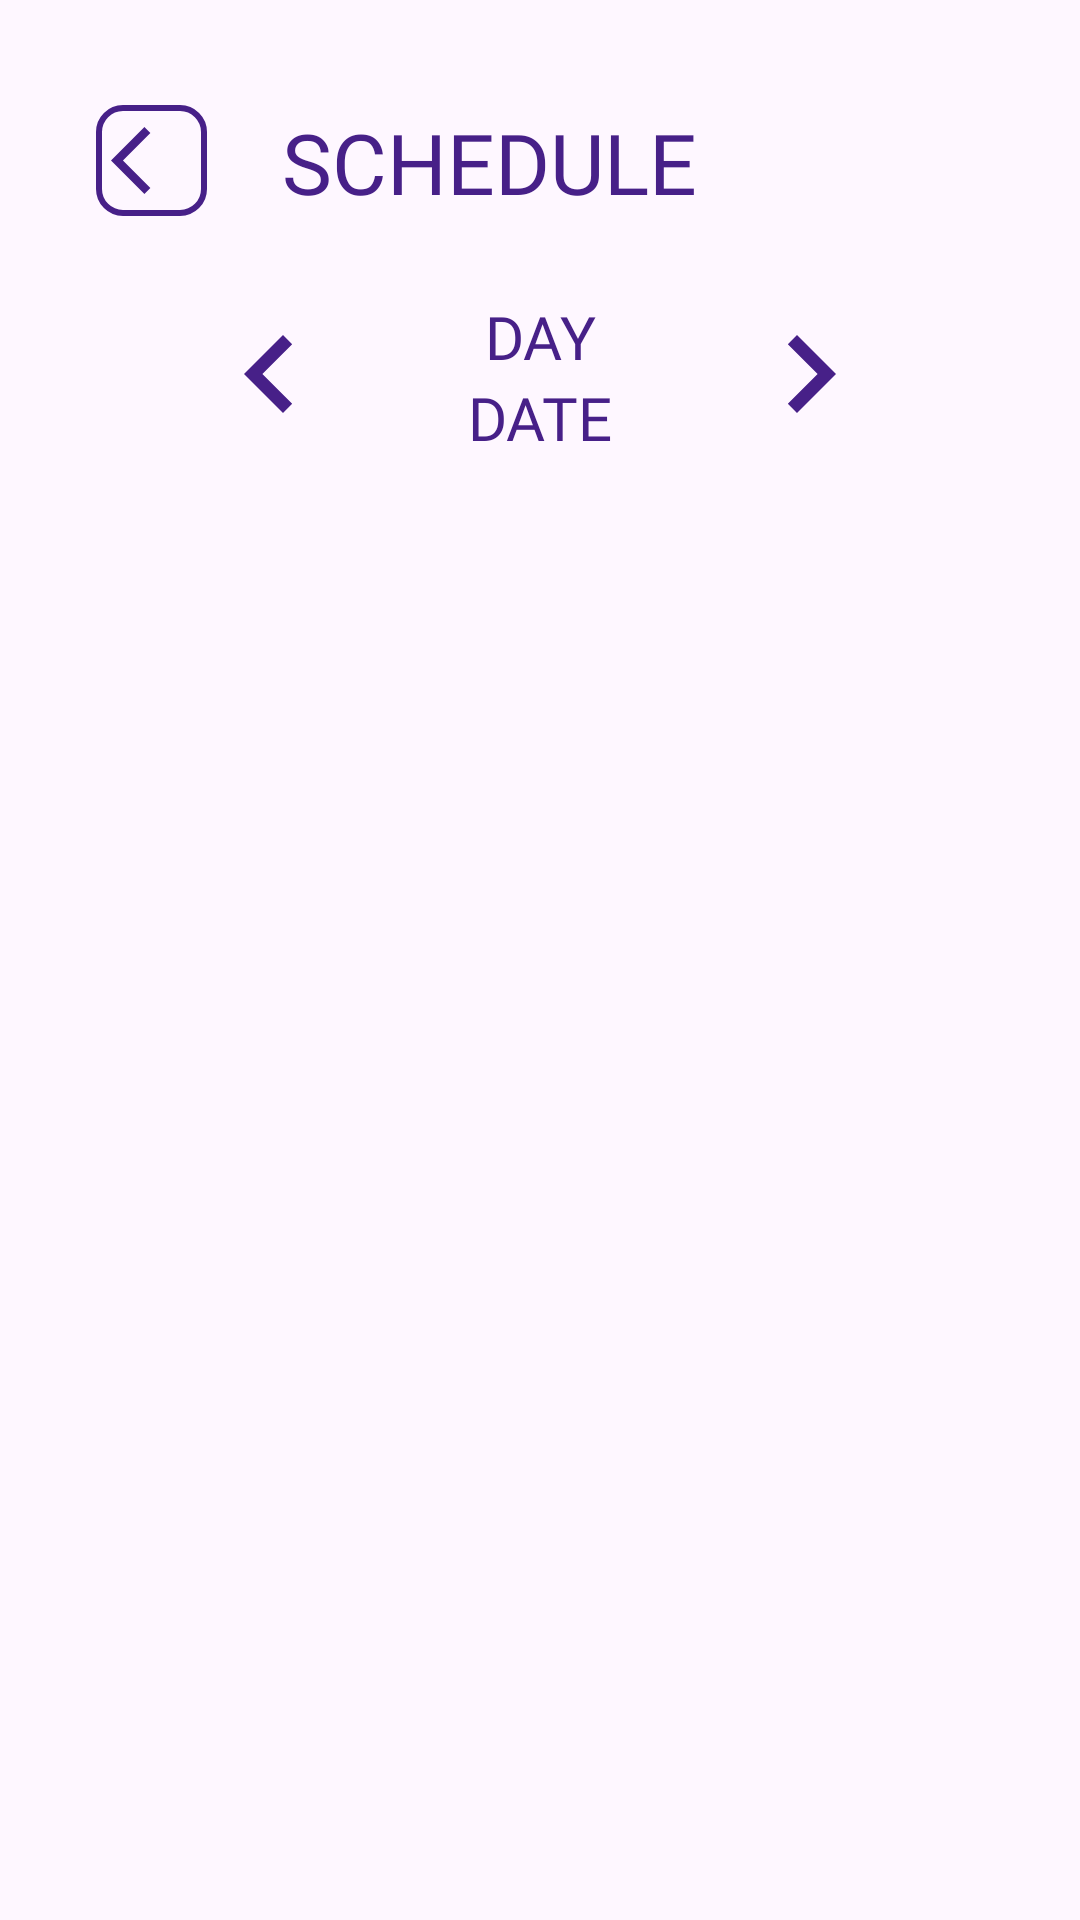

Icon bounding boxes for this 1080*1920 phone screenshot, format (x1, y1, x2, y2):
back: (96, 105, 207, 216)
left: (244, 335, 292, 413)
right arrow: (788, 335, 836, 413)
